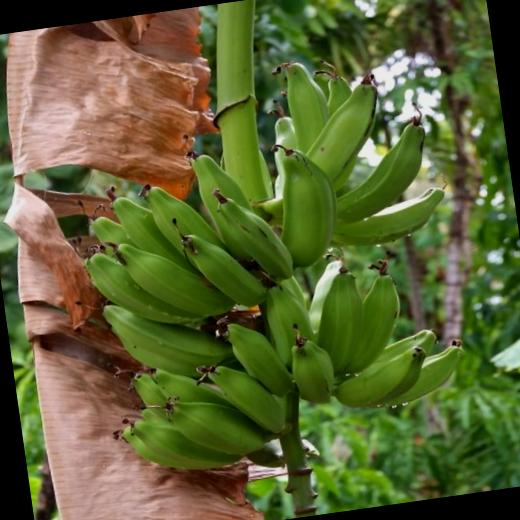Banana: (64, 43, 484, 492), (268, 135, 350, 271)
